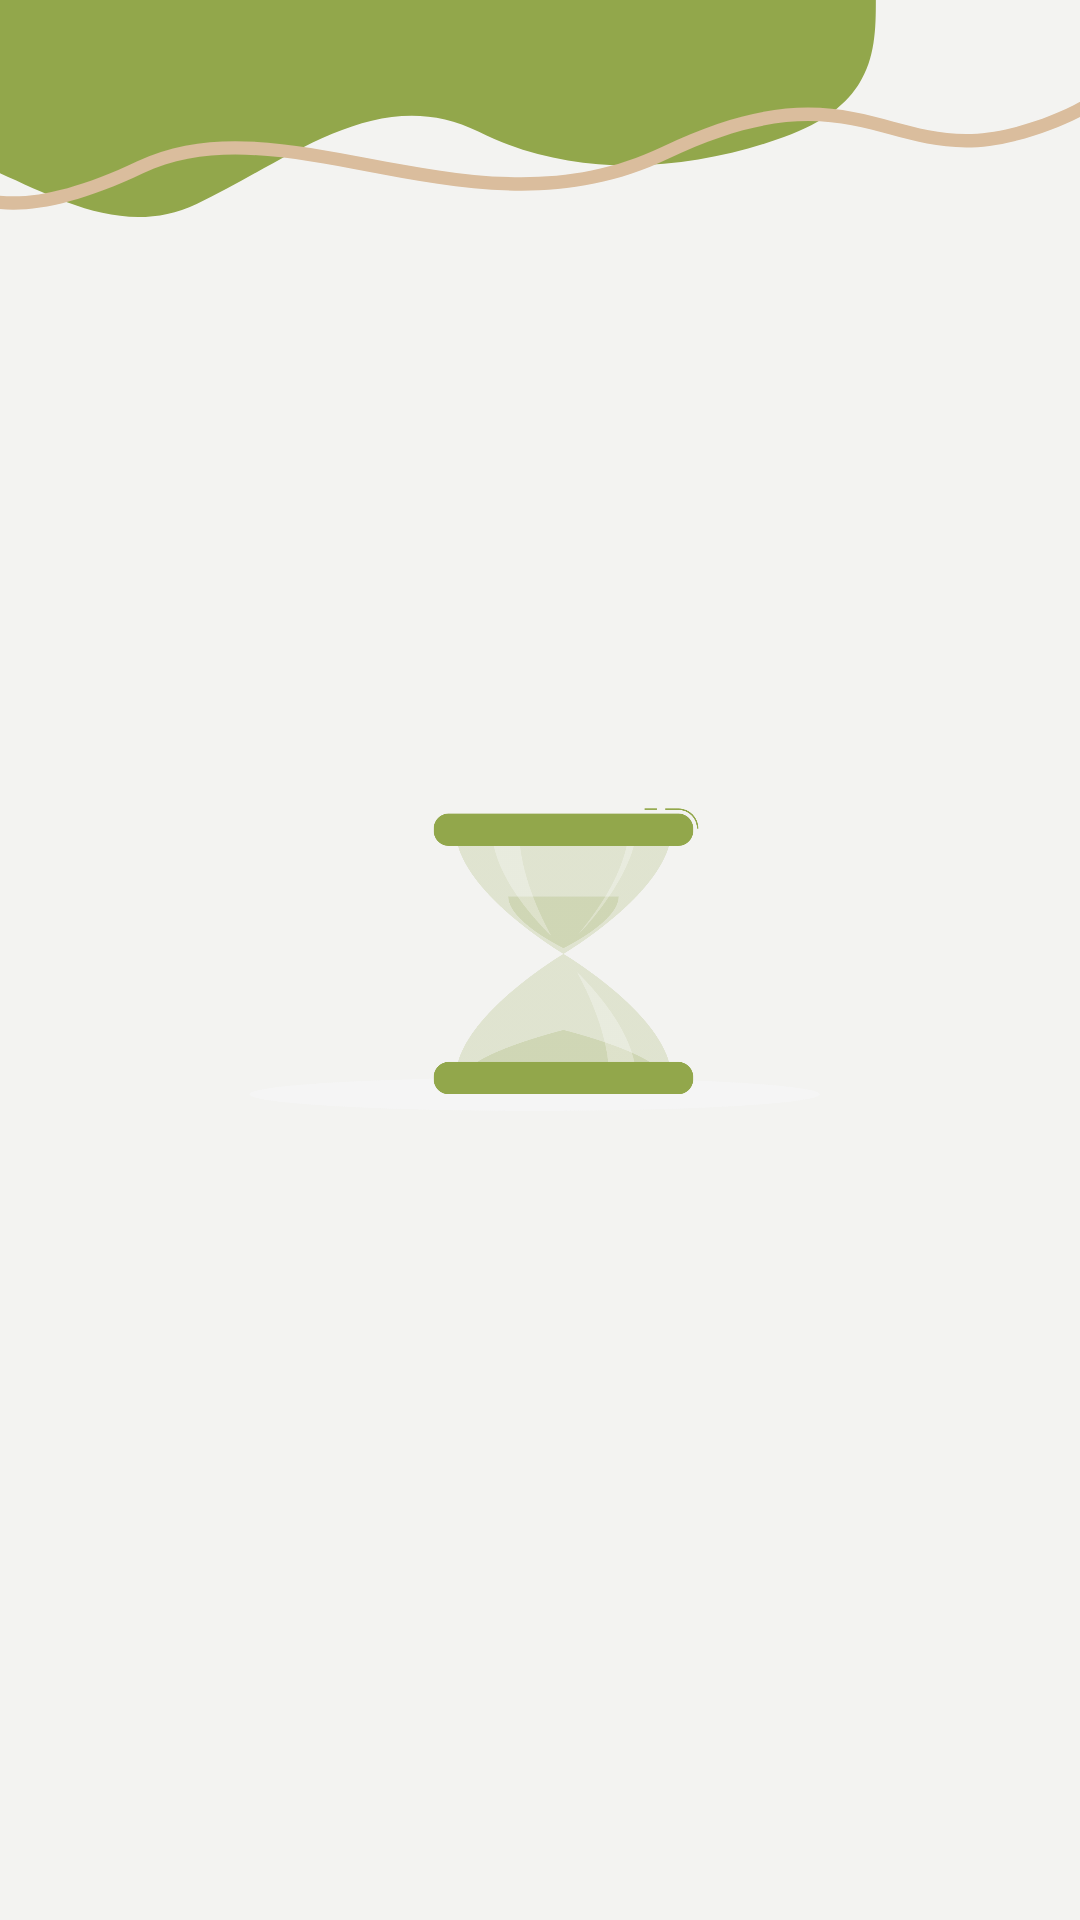

Named icons in this screenshot (1080w x 1920h) and their centers, (x=x, y=y):
delay: (x=566, y=951)
